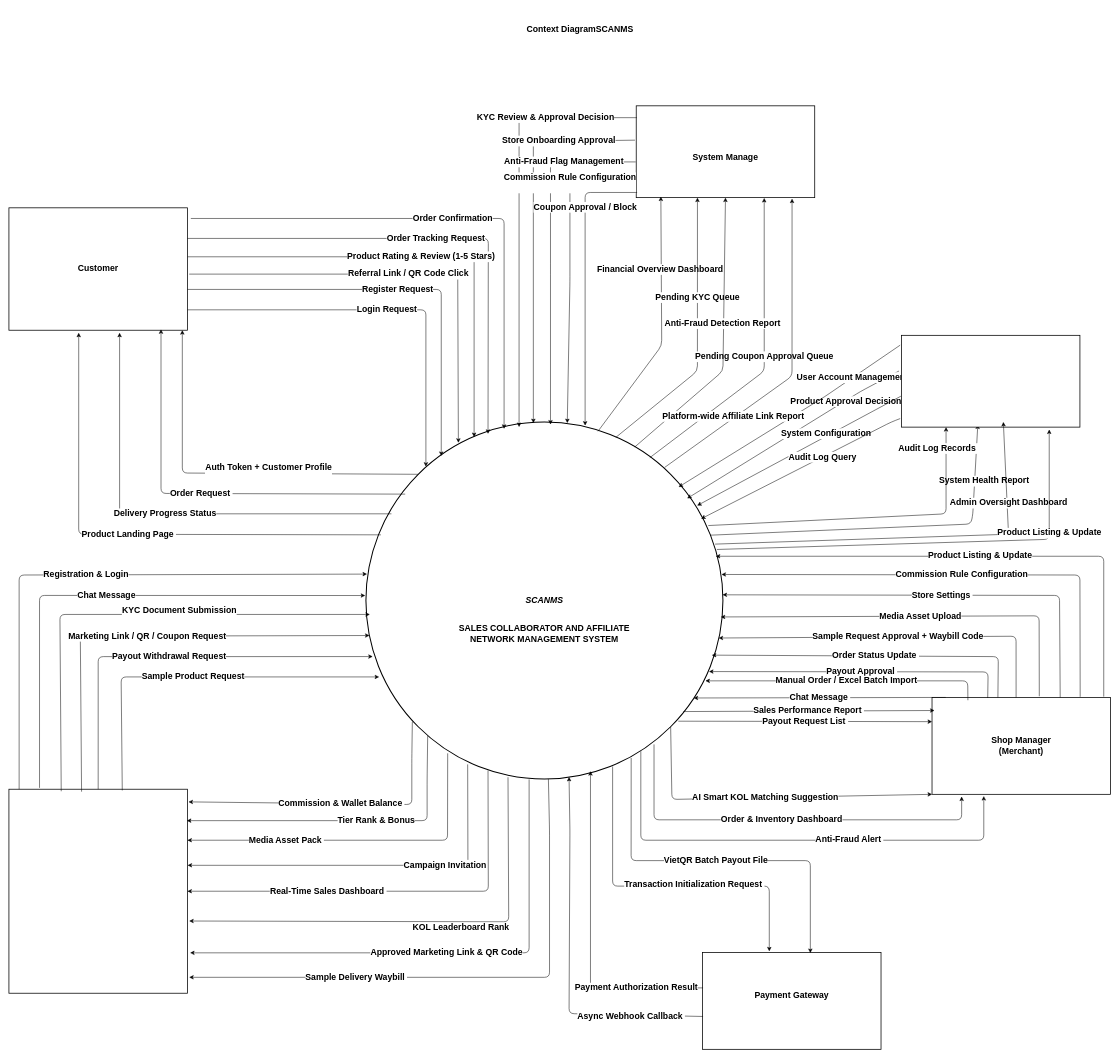
This 1120x1058 diagram has some shape labels left out. Each missing label, with the box of its shape:
Collaborator (KOL / CTV): (8, 789, 188, 993)
System Admin: (901, 335, 1080, 427)
